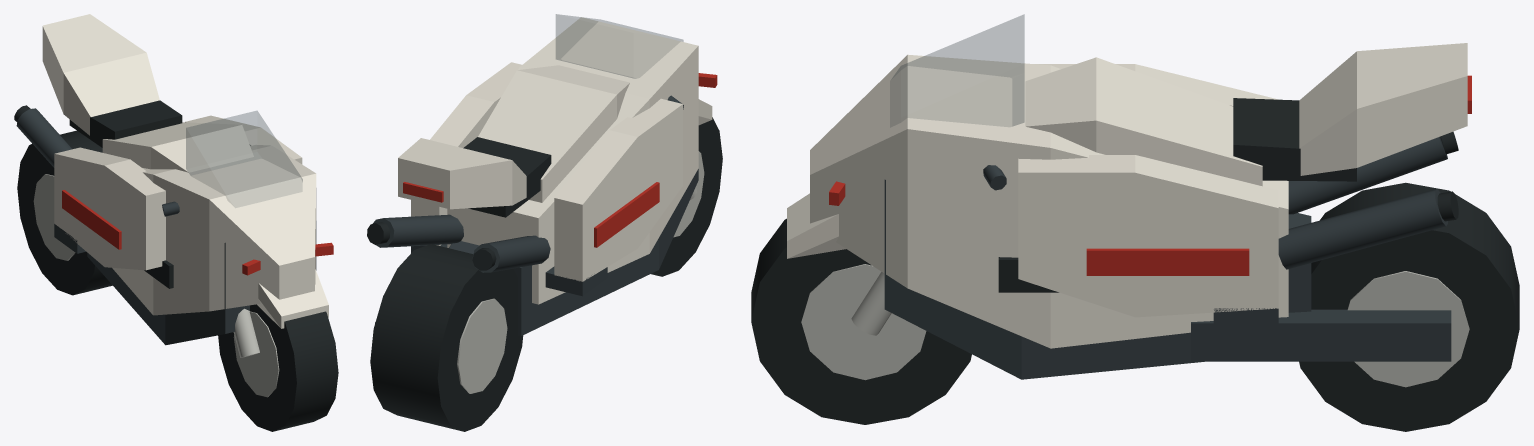
3 renders of one model, left to right at view 1: azimuth 30°, elevation 25°; view 2: azimuth 150°, elevation 25°; view 3: azimuth 270°, elevation 25°, orthographic. The views are drawn at different scales.
Parts seen in each view (by area): view 1: motorcycle-fleet-armor, front-wheel-fleet-rubber, motorcycle-fleet-glass, motorcycle-fleet-machine, rear-wheel-fleet-rubber, motorcycle-fleet-rubber, front-wheel-fleet-edge, steering-fleet-armor, motorcycle-fleet-red, rear-wheel-fleet-edge, steering-fleet-edge; view 2: motorcycle-fleet-armor, rear-wheel-fleet-rubber, motorcycle-fleet-machine, motorcycle-fleet-glass, rear-wheel-fleet-edge, front-wheel-fleet-rubber, motorcycle-fleet-rubber, motorcycle-fleet-red, front-wheel-fleet-edge; view 3: motorcycle-fleet-armor, motorcycle-fleet-machine, rear-wheel-fleet-rubber, front-wheel-fleet-rubber, motorcycle-fleet-glass, front-wheel-fleet-edge, motorcycle-fleet-rubber, rear-wheel-fleet-edge, motorcycle-fleet-red, steering-fleet-armor, steering-fleet-edge.
Part boxes in pixels (box(x1,y1,x2,y2)): motorcycle-fleet-armor: box(42, 14, 316, 315); front-wheel-fleet-rubber: box(218, 304, 338, 431); motorcycle-fleet-glass: box(186, 111, 302, 207); motorcycle-fleet-machine: box(16, 108, 316, 345); rear-wheel-fleet-rubber: box(17, 130, 112, 295); motorcycle-fleet-rubber: box(14, 100, 182, 288); front-wheel-fleet-edge: box(233, 311, 279, 397); steering-fleet-armor: box(257, 269, 328, 328); motorcycle-fleet-red: box(62, 190, 333, 275); rear-wheel-fleet-edge: box(33, 174, 75, 260); steering-fleet-edge: box(233, 308, 259, 357); motorcycle-fleet-armor: box(398, 17, 698, 304); rear-wheel-fleet-rubber: box(370, 244, 523, 431); motorcycle-fleet-machine: box(372, 169, 698, 335); motorcycle-fleet-glass: box(556, 14, 683, 78); rear-wheel-fleet-edge: box(457, 298, 507, 393); front-wheel-fleet-rubber: box(651, 117, 722, 276); motorcycle-fleet-rubber: box(367, 137, 551, 270); motorcycle-fleet-red: box(403, 73, 717, 247); front-wheel-fleet-edge: box(673, 151, 704, 237); motorcycle-fleet-armor: box(810, 43, 1467, 348); motorcycle-fleet-machine: box(884, 136, 1451, 379); rear-wheel-fleet-rubber: box(1299, 182, 1519, 431); front-wheel-fleet-rubber: box(751, 218, 971, 424); motorcycle-fleet-glass: box(890, 14, 1024, 126); front-wheel-fleet-edge: box(801, 264, 926, 380); motorcycle-fleet-rubber: box(998, 98, 1458, 292); rear-wheel-fleet-edge: box(1347, 271, 1469, 387); motorcycle-fleet-red: box(829, 75, 1471, 275); steering-fleet-armor: box(787, 193, 845, 258); steering-fleet-edge: box(851, 272, 891, 335).
Bounding box in the file's own units: 4.29 × 6.6 × 12.37.
